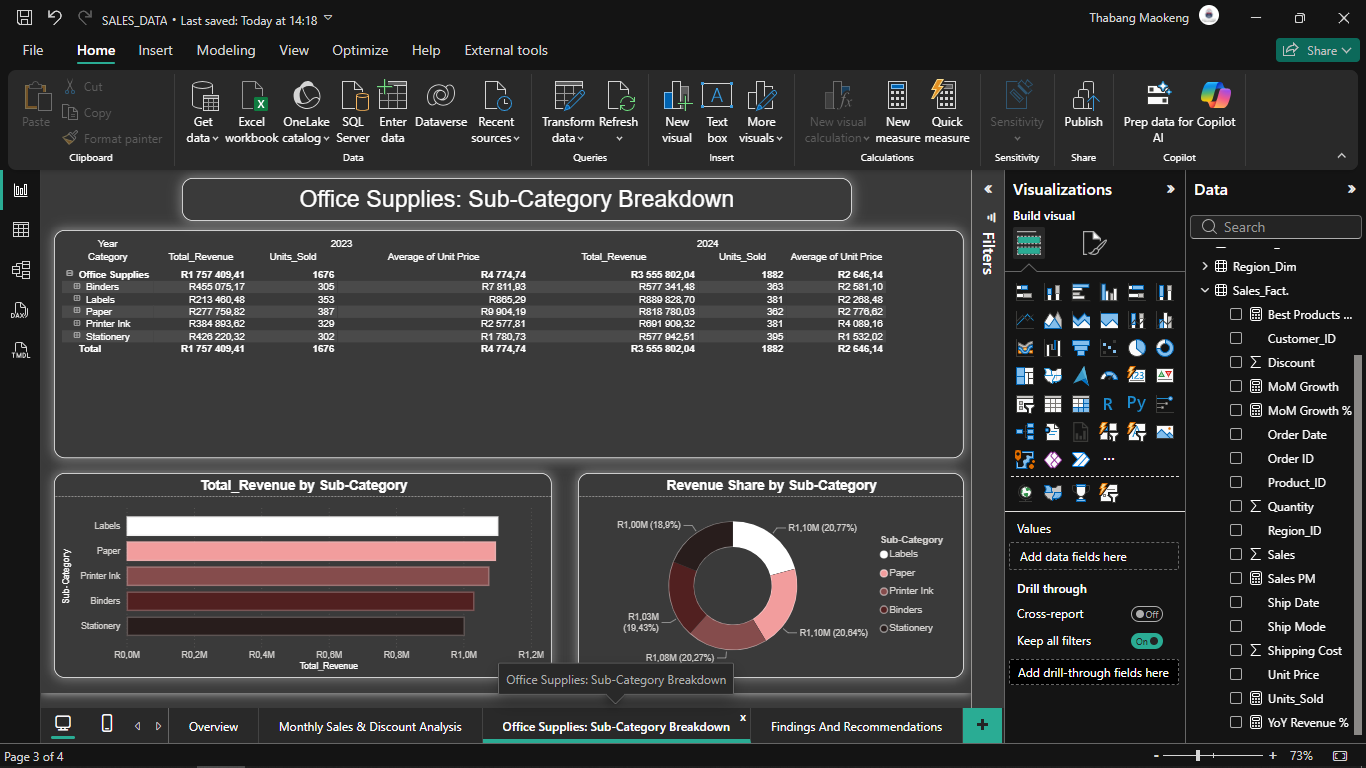

The page's visual inventory and layout, read from the dashboard file:
{"tool":"powerbi","page":{"name":"Office Supplies: Sub-Category Breakdown","canvas":[1280,720],"ordinal":2},"visuals":[{"type":"pivotTable","fields":{"Rows":["Product_Dim.Category Hierarchy.Category","Product_Dim.Category Hierarchy.Sub-Category","Product_Dim.Category Hierarchy.Product name"],"Values":["Customer_Dim.Total_Revenue","Sales_Fact..Units_Sold","Avg(Sales_Fact..Unit Price)"],"Columns":["Date_Table.Year Hierarchy.Year","Date_Table.Year Hierarchy.Quarter","Date_Table.Year Hierarchy.Month_Name","Date_Table.Year Hierarchy.Week_Num"]},"box":[17.9,82.6,1252.5,313.8],"z":0},{"type":"donutChart","title":"Revenue Share by Sub-Category","fields":{"Y":["Customer_Dim.Total_Revenue"],"Category":["Product_Dim.Sub-Category"]},"box":[739.1,417,531.3,282.2],"z":1000},{"type":"clusteredBarChart","fields":{"Category":["Product_Dim.Sub-Category"],"Y":["Customer_Dim.Total_Revenue"]},"box":[17.9,417,685.4,282.2],"z":2000},{"type":"textbox","box":[194.1,11,922.2,59.2],"z":3000}]}

Visuals, with their boxes on the page's 1280x720 design canvas (x1, y1, x2, y2). These are canvas units, not pixel positions in the 1366x768 screenshot, which may show the page scaled, cropped or inside an application window:
pivotTable - Product_Dim.Category Hierarchy.Category x Product_Dim.Category Hierarchy.Sub-Category: BBox(18, 83, 1270, 396)
"Revenue Share by Sub-Category" donutChart: BBox(739, 417, 1270, 699)
clusteredBarChart - Product_Dim.Sub-Category x Customer_Dim.Total_Revenue: BBox(18, 417, 703, 699)
textbox: BBox(194, 11, 1116, 70)
